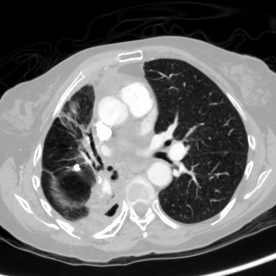nodule: (72, 163, 80, 171)
